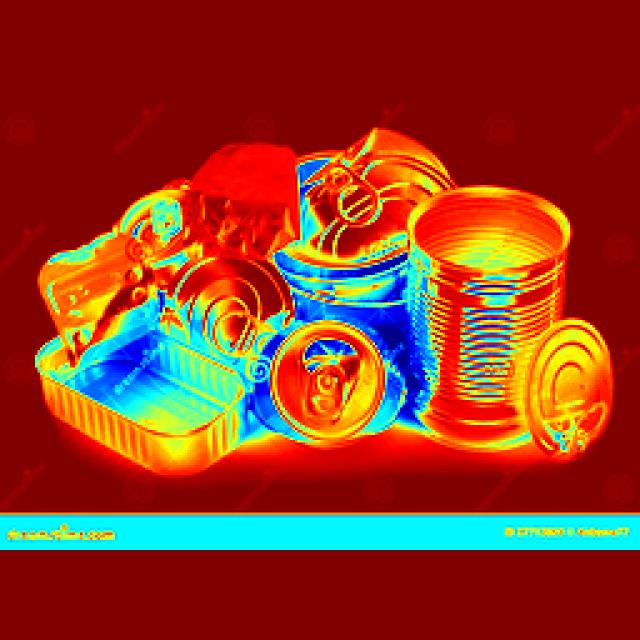Aluminium Food Cans: (403, 182, 604, 456), (36, 268, 230, 465), (306, 141, 416, 320), (262, 309, 388, 447)
